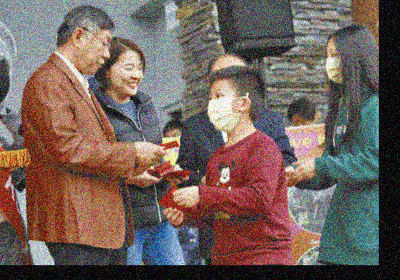with_mask: (206, 87, 241, 133), (324, 47, 345, 86)
without_mask: (79, 34, 112, 76), (111, 60, 144, 96)
